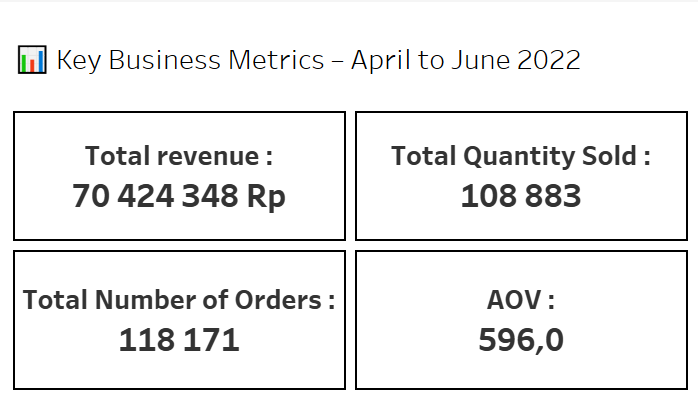

What the dashboard file says about the page in this screenshot:
{"tool":"tableau","page":{"name":"Key Business Metrics","canvas":[700,400],"ordinal":2},"visuals":[{"type":"text","box":[8,8,684,96]},{"type":"worksheet","title":"Total Revenue","mark":"Automatic","box":[8,104,342,139]},{"type":"worksheet","title":"Total Quantity Sold","mark":"Automatic","box":[350,104,342,139]},{"type":"worksheet","title":"Total Number of Orders","mark":"Automatic","box":[8,243,342,149]},{"type":"worksheet","title":"AOV","mark":"Automatic","box":[350,243,342,149]}]}

Visuals, with their boxes in screenshot pixels (x1, y1, x2, y2), scaled from the page's 700x400 canvas onto the 698x402 screenshot:
text: 8 8 690 105
"Total Revenue" worksheet: 8 105 349 244
"Total Quantity Sold" worksheet: 349 105 690 244
"Total Number of Orders" worksheet: 8 244 349 394
"AOV" worksheet: 349 244 690 394
